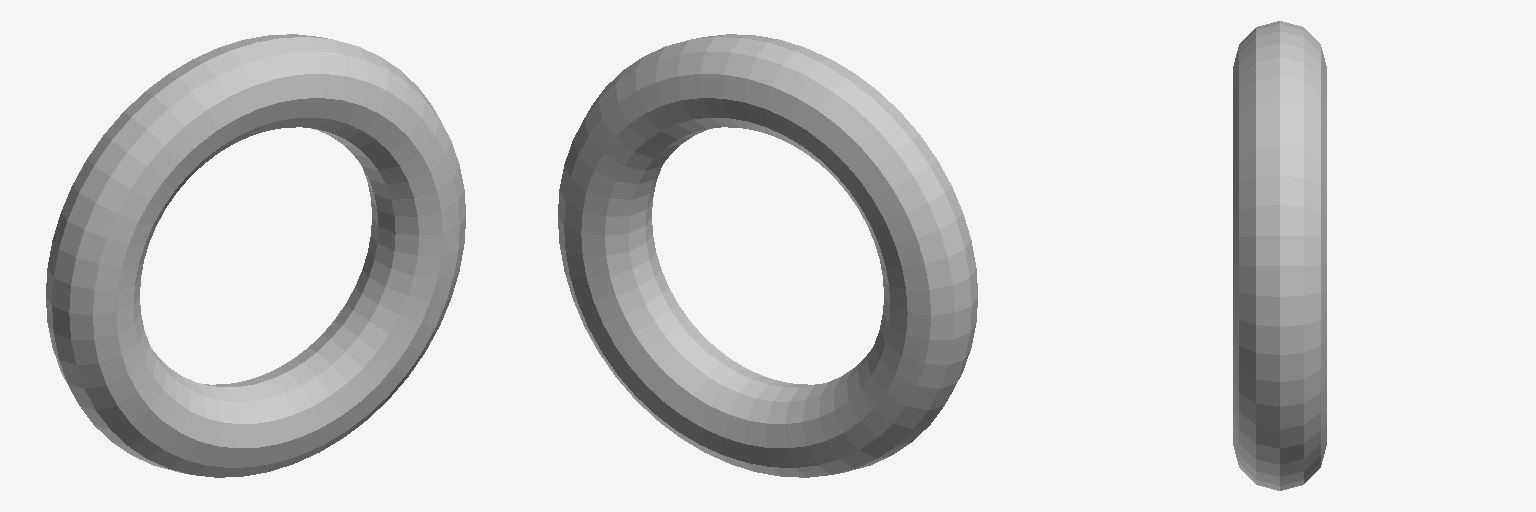
File: msh_bonus_01.obj
3 renders of one model, left to right at view 1: azimuth 30°, elevation 25°; view 2: azimuth 150°, elevation 25°; view 3: azimuth 270°, elevation 25°, orthographic.
Parts seen in each view (by area): view 1: Buff; view 2: Buff; view 3: Buff.
Boxes of the visible parts, x1=… form: Buff: x1=46, y1=34, x2=465, y2=477; Buff: x1=558, y1=34, x2=977, y2=477; Buff: x1=1233, y1=21, x2=1326, y2=490.
Bounding box in the file's own units: 3.88 × 3.88 × 0.7756.